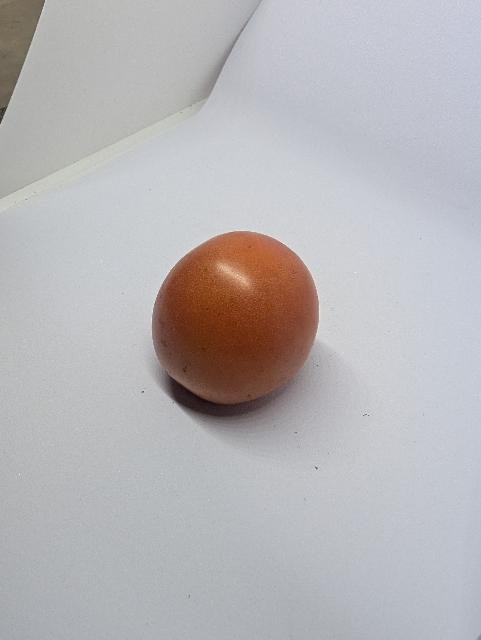red: (144, 226, 325, 419)
